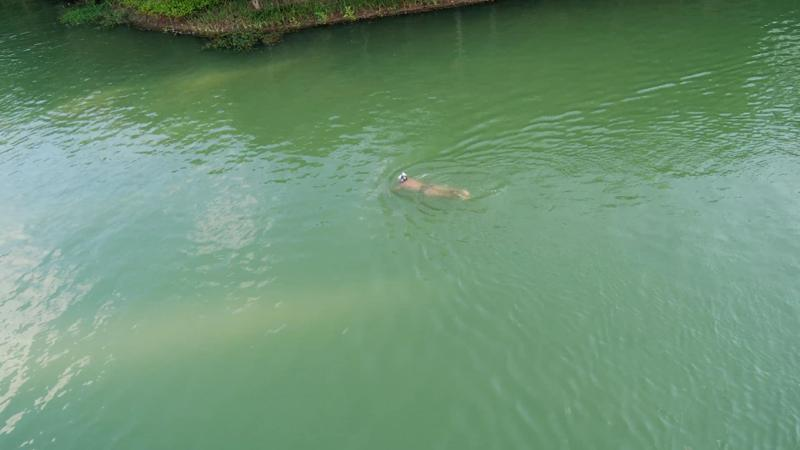swimmers: (390, 171, 472, 203)
